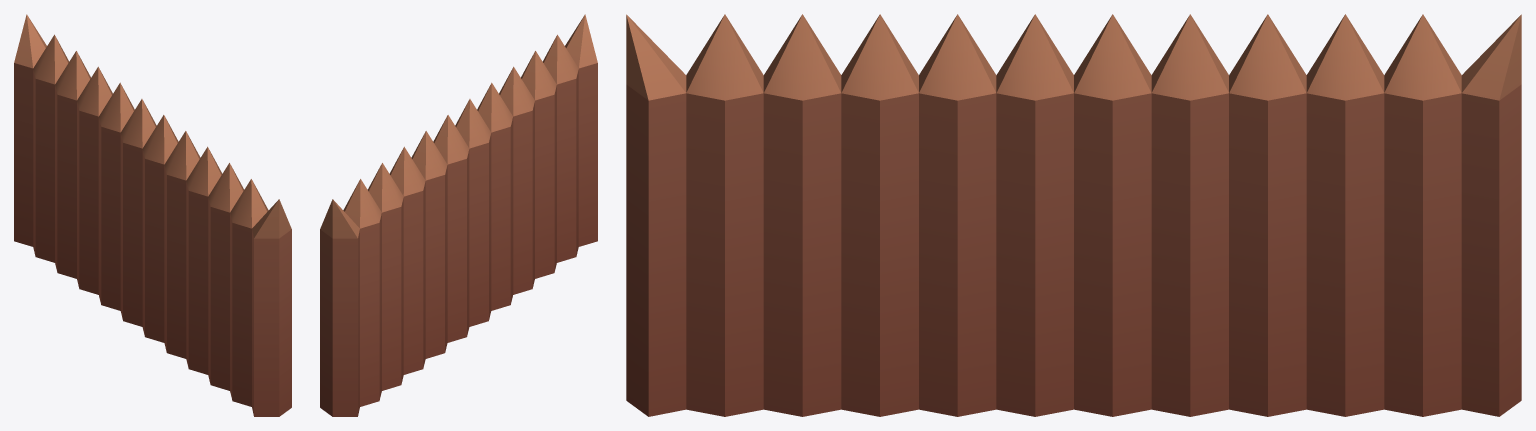
Rendered from fence_wood.glb.
The picture shows the model from 3 angles, left to right: view 1: azimuth 30°, elevation 25°; view 2: azimuth 150°, elevation 25°; view 3: azimuth 270°, elevation 25°; orthographic projection. The views are drawn at different scales.
Parts seen in each view (by area): view 1: fence_wood; view 2: fence_wood; view 3: fence_wood.
Part boxes in pixels (x1,y1,x2,y2): fence_wood: [14, 14, 291, 416]; fence_wood: [320, 14, 597, 416]; fence_wood: [626, 14, 1521, 416].
Size of the model in its own units: 0.05 by 0.275 by 0.5774.
Materials: 1 (1 with a texture image).
